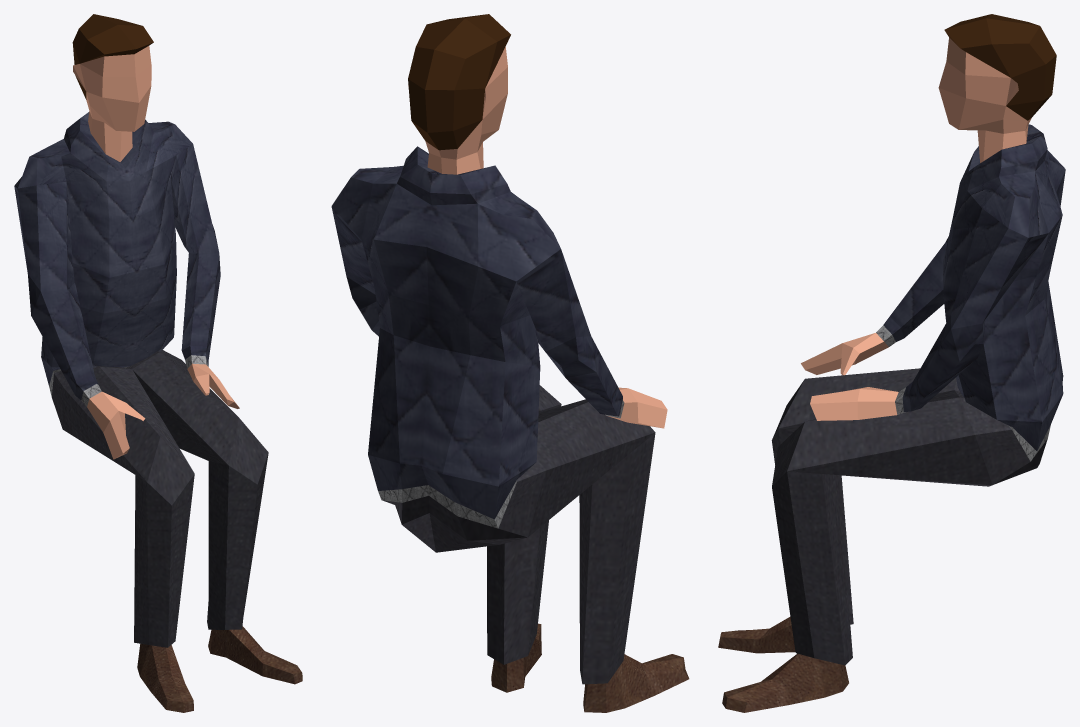
The model's file is AutumnManA.006.glb.
3 views of the same model, side by side, from view 1: azimuth 30°, elevation 25°; view 2: azimuth 150°, elevation 25°; view 3: azimuth 270°, elevation 25° (orthographic). The views are drawn at different scales.
Parts seen in each view (by area): view 1: AutumnManA.006; view 2: AutumnManA.006; view 3: AutumnManA.006.
Part boxes in pixels (left/top/right/bottom): AutumnManA.006: left=14, top=14, right=302, bottom=712; AutumnManA.006: left=331, top=14, right=689, bottom=712; AutumnManA.006: left=718, top=14, right=1065, bottom=712.
Size of the model in its own units: 0.4675 by 1.38 by 0.6646.
Materials: 1 (1 with a texture image).
